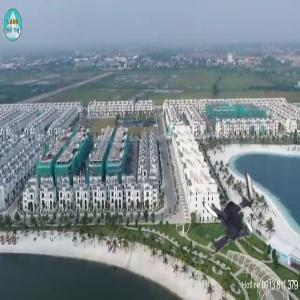drone: (190, 179, 273, 262)
